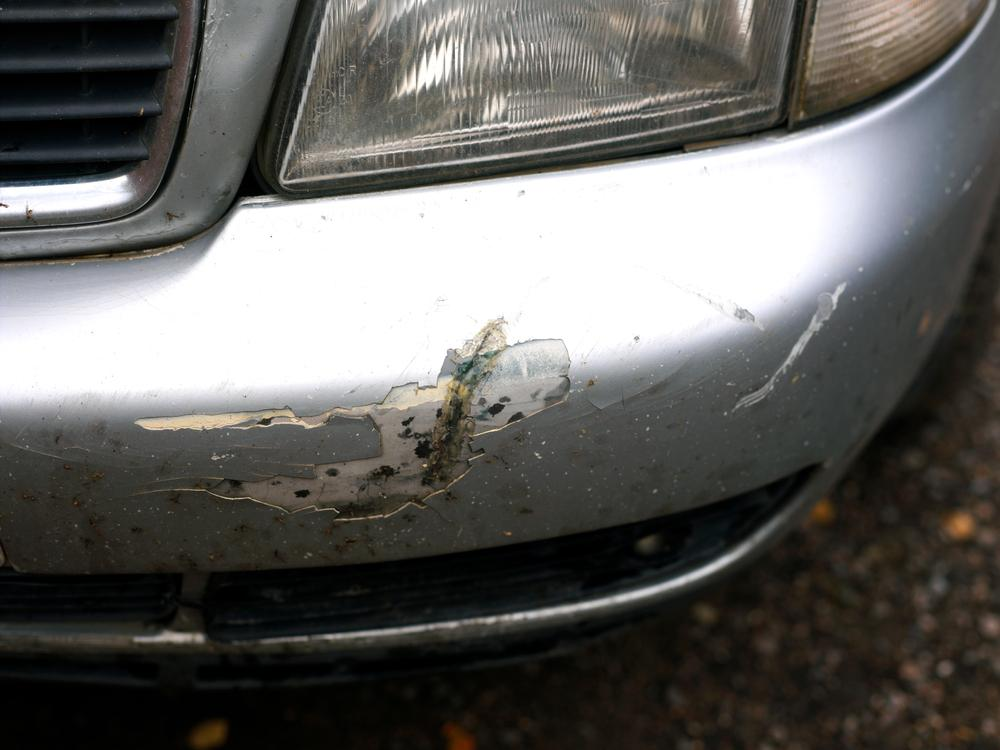scratch: (74, 315, 583, 531), (722, 273, 851, 416)
